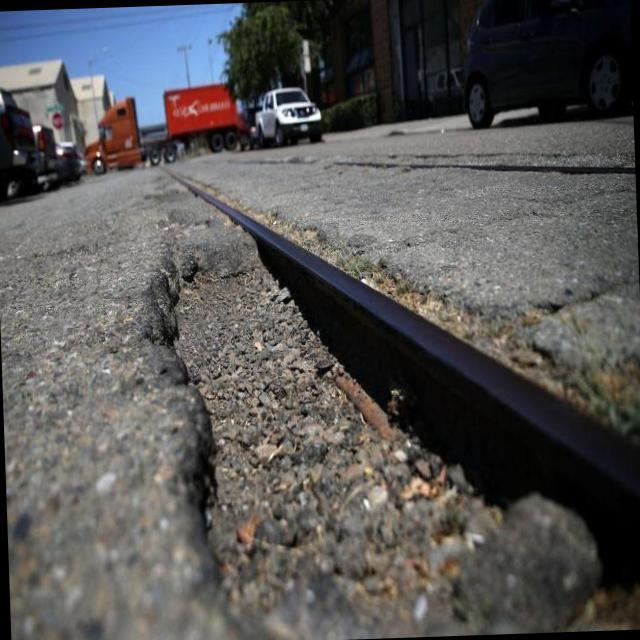Pothole: (176, 263, 600, 639)
